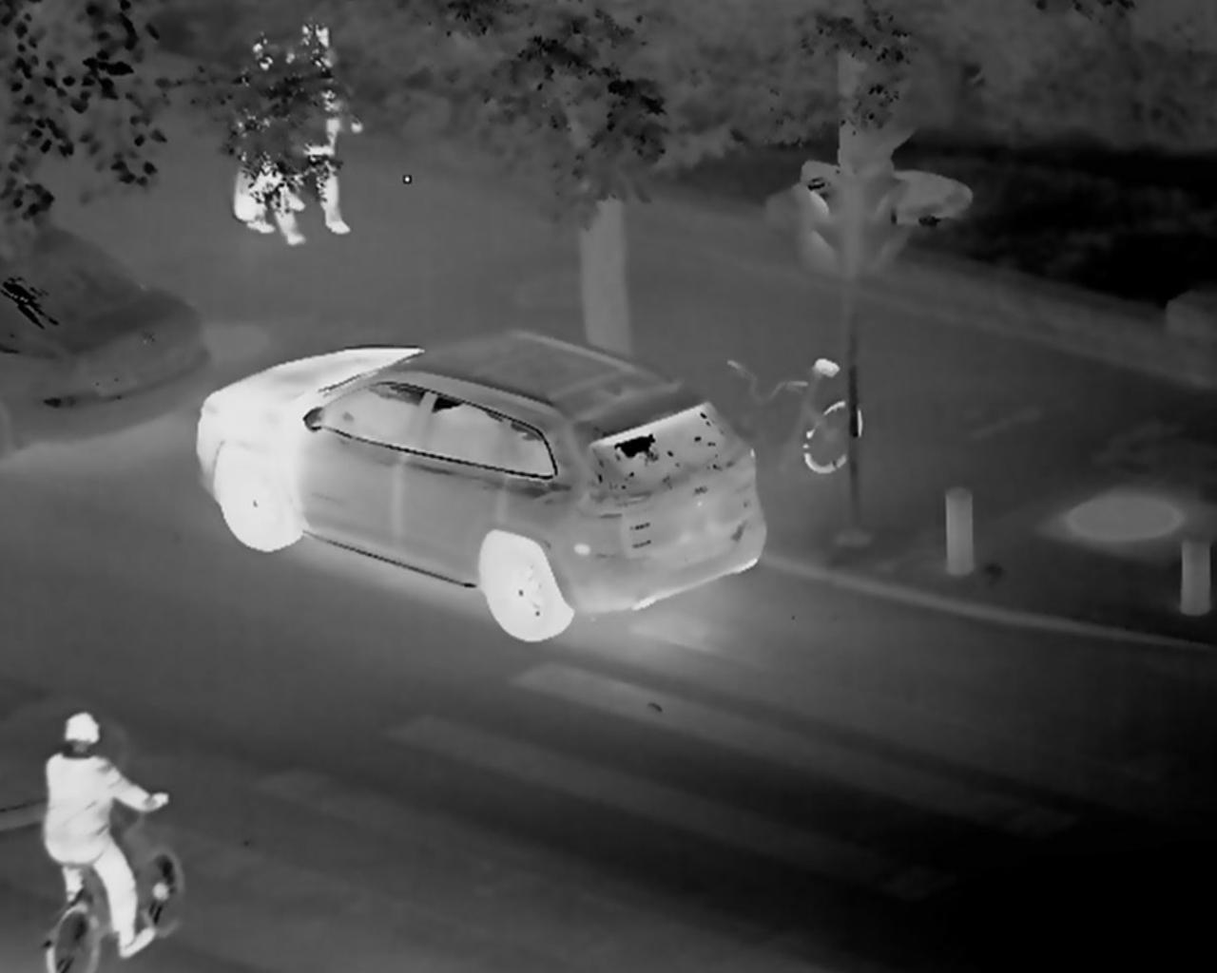person: (39, 709, 159, 955), (229, 16, 309, 249), (271, 21, 354, 235)
